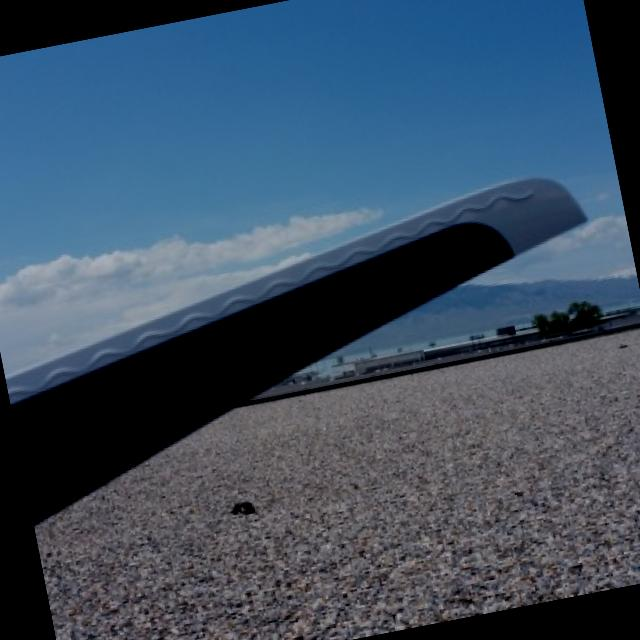healthy: (9, 176, 581, 519)
